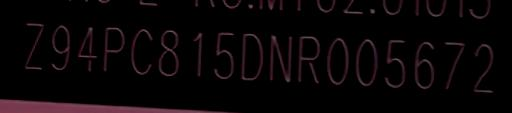letter: (470, 39, 498, 96), (380, 37, 410, 90), (210, 27, 238, 82), (100, 23, 128, 76), (238, 29, 266, 82), (410, 38, 438, 91), (20, 18, 46, 75), (48, 20, 74, 77), (294, 34, 322, 85), (324, 34, 352, 85), (74, 22, 100, 75), (354, 35, 380, 88), (442, 38, 468, 91), (156, 26, 182, 77), (128, 26, 154, 77), (268, 32, 294, 83), (186, 29, 206, 78)
